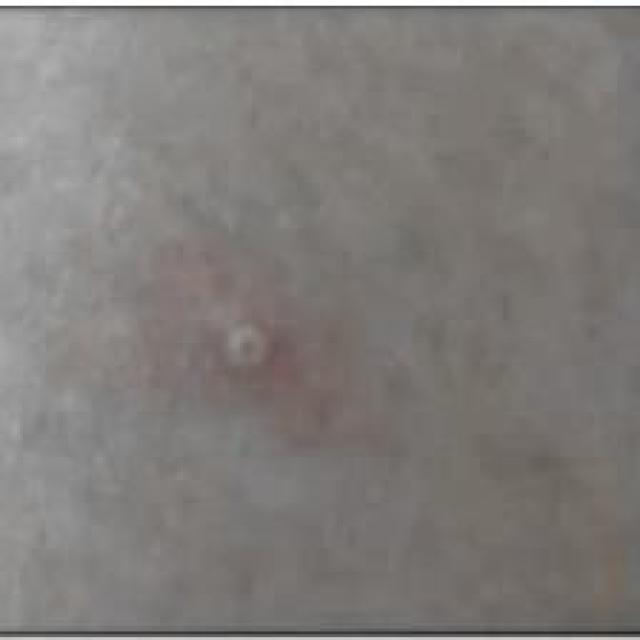monkeypox: (0, 160, 513, 617)
